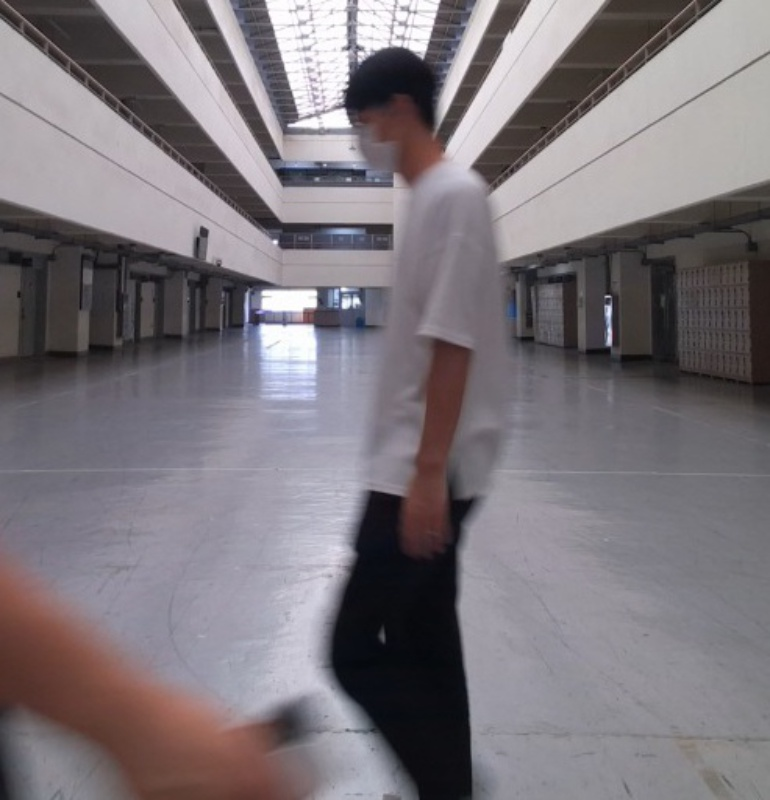person: (320, 46, 517, 800)
